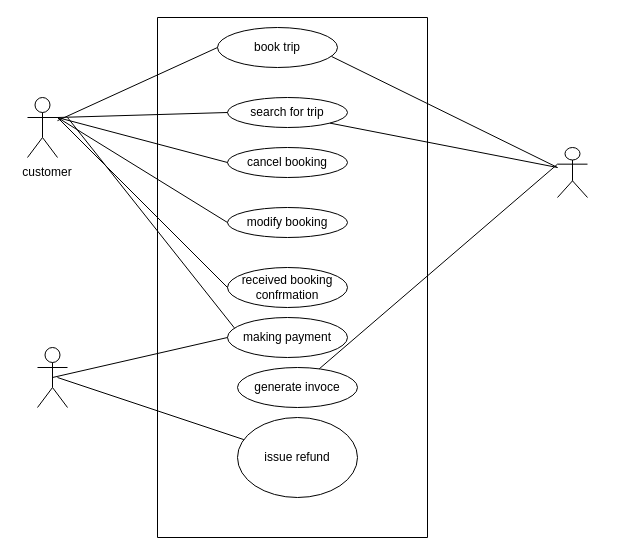
Image size: 624x555. Some labels were removed from this diagram. The centre of each missing label's shape, as x and y in pixels:
"payment system" goes at [52,377].
"travel agent" goes at [572,172].
